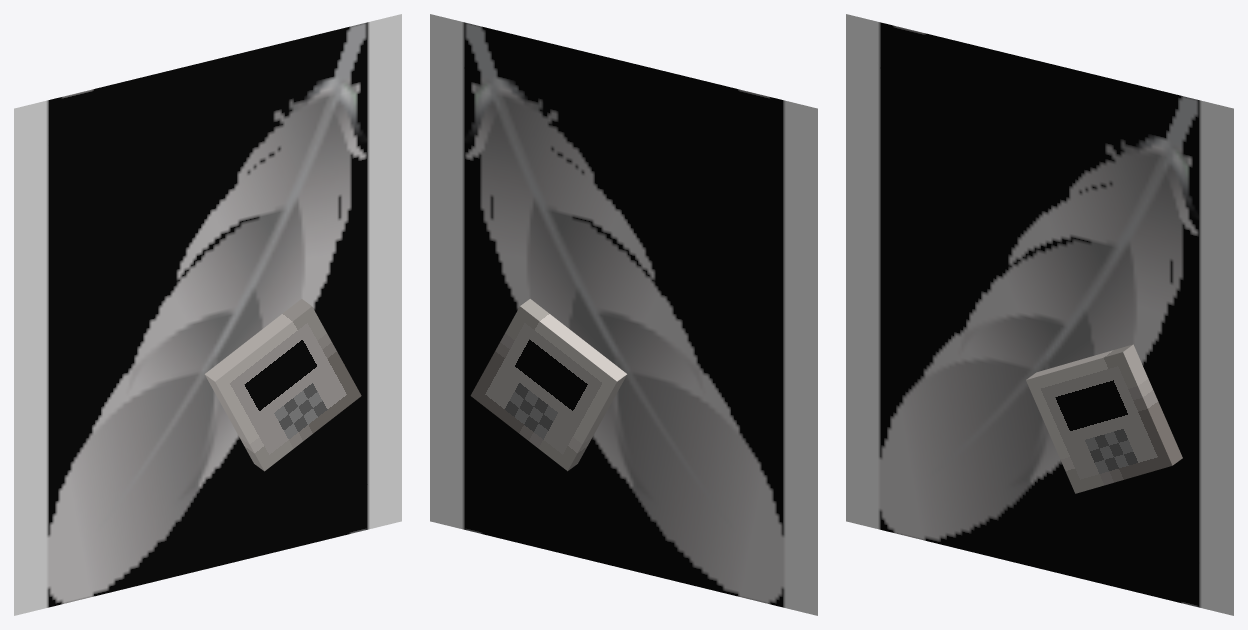
File: npcteleporter.obj
3 views of the same model, side by side, from view 1: azimuth 30°, elevation 25°; view 2: azimuth 150°, elevation 25°; view 3: azimuth 330°, elevation 25° (orthographic).
Parts seen in each view (by area): view 1: feather, body; view 2: feather, body; view 3: feather, body.
Part boxes in pixels (x1,y1,x2,y2): feather: (14,14,401,615); body: (204,299,361,471); feather: (430,14,817,615); body: (470,299,627,471); feather: (846,14,1233,615); body: (1026,344,1182,493).
Size of the model in its own units: 0.5 by 0.625 by 0.0469.
